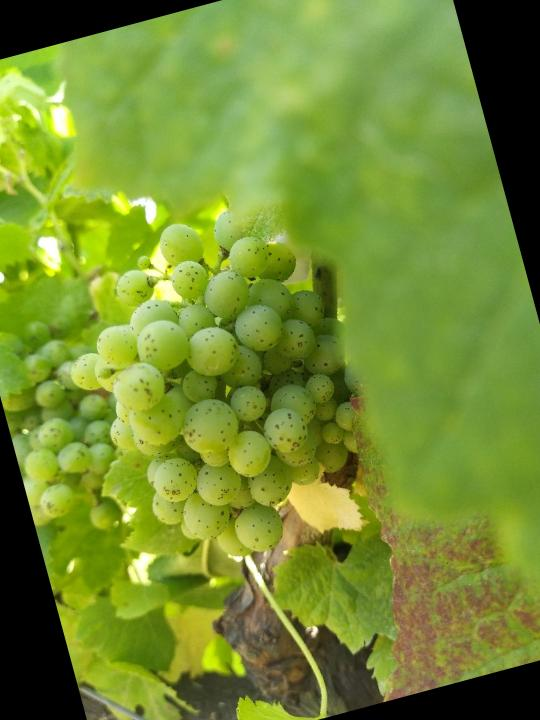grape: (38, 184, 399, 587)
